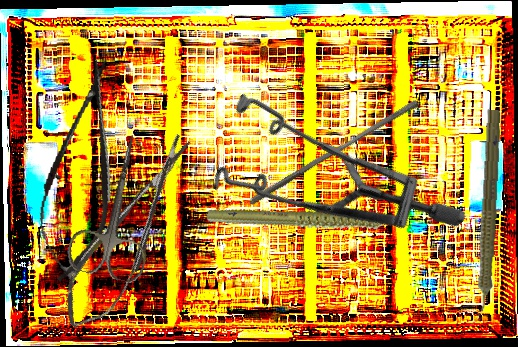Handpiece: (204, 166, 416, 279), (467, 108, 505, 329)
Iris Scissors: (63, 127, 173, 285)
Micro Scissor: (47, 126, 213, 340), (27, 53, 134, 287)
Pusher: (247, 92, 421, 213)
Speculum: (179, 31, 469, 330)
